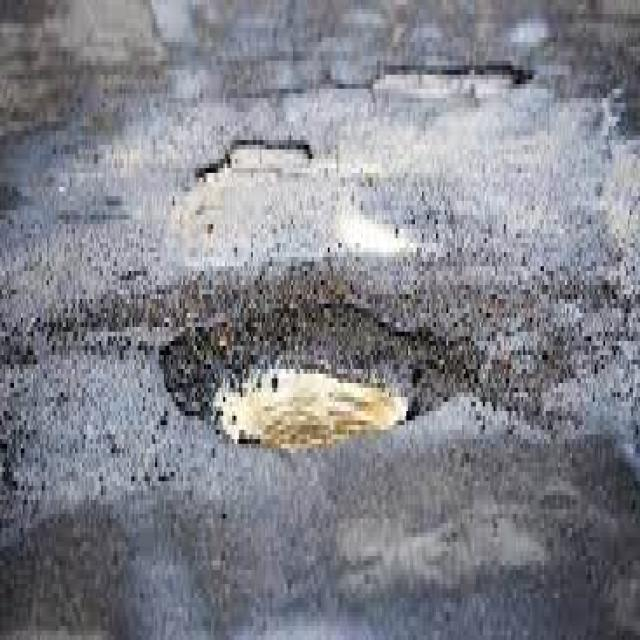Pothole: (160, 304, 485, 448), (201, 140, 310, 182)
